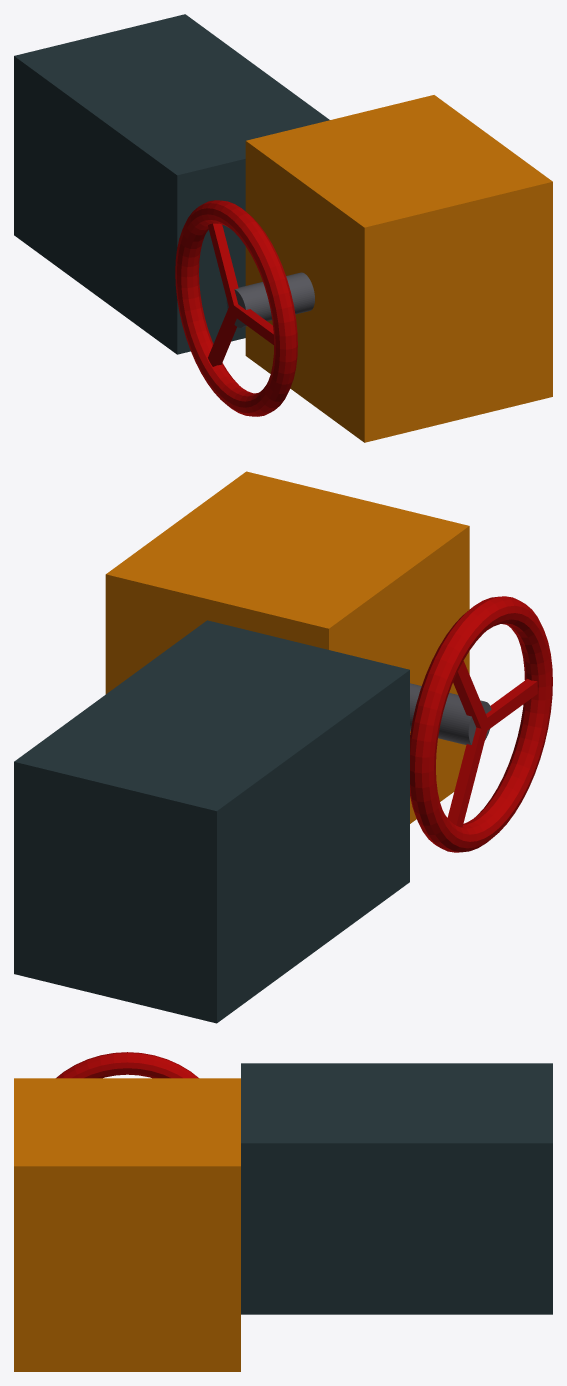
Rendered from rotor_lock.obj.
3 renders of one model, top to bottom at view 1: azimuth 30°, elevation 25°; view 2: azimuth 150°, elevation 25°; view 3: azimuth 270°, elevation 25°, orthographic. The views are drawn at different scales.
Visible parts, largest first — view 1: rotor_lock; view 2: rotor_lock; view 3: rotor_lock.
Part boxes in pixels (x1,y1,x2,y2): rotor_lock: (14, 14, 552, 442); rotor_lock: (14, 471, 552, 1023); rotor_lock: (14, 1052, 552, 1371).
Bounding box in the file's own units: 0.312 × 0.24 × 0.57.
